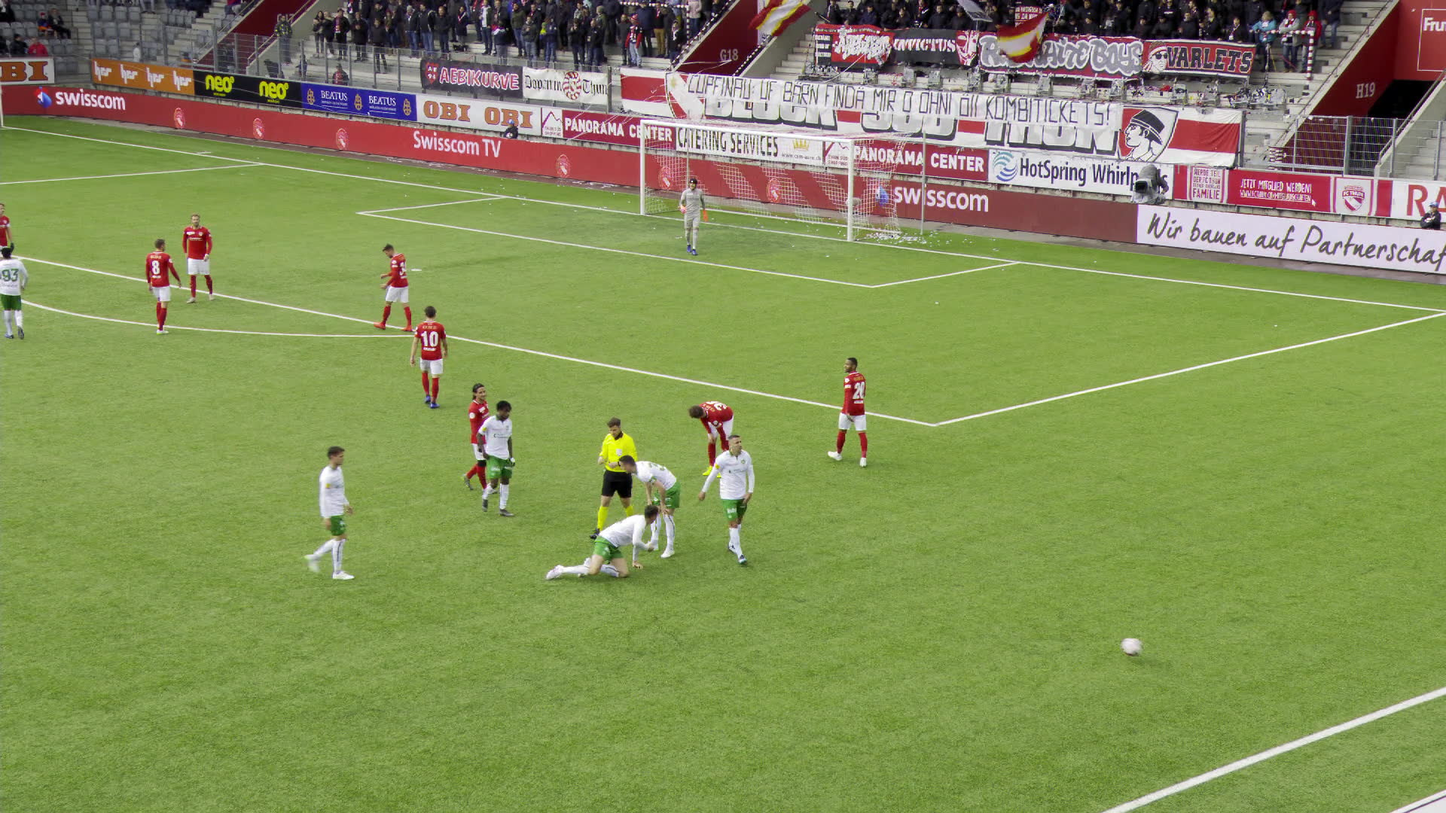ball: (1121, 637, 1141, 656)
player: (542, 506, 659, 580), (697, 435, 756, 562), (305, 442, 356, 579), (621, 456, 679, 558), (478, 400, 519, 515), (461, 382, 504, 490), (831, 355, 868, 466), (410, 307, 448, 409), (689, 400, 734, 477), (144, 239, 180, 333), (381, 243, 414, 330), (182, 215, 212, 303), (0, 248, 28, 338), (677, 178, 707, 254), (0, 205, 14, 253)
referee: (595, 417, 639, 540)
